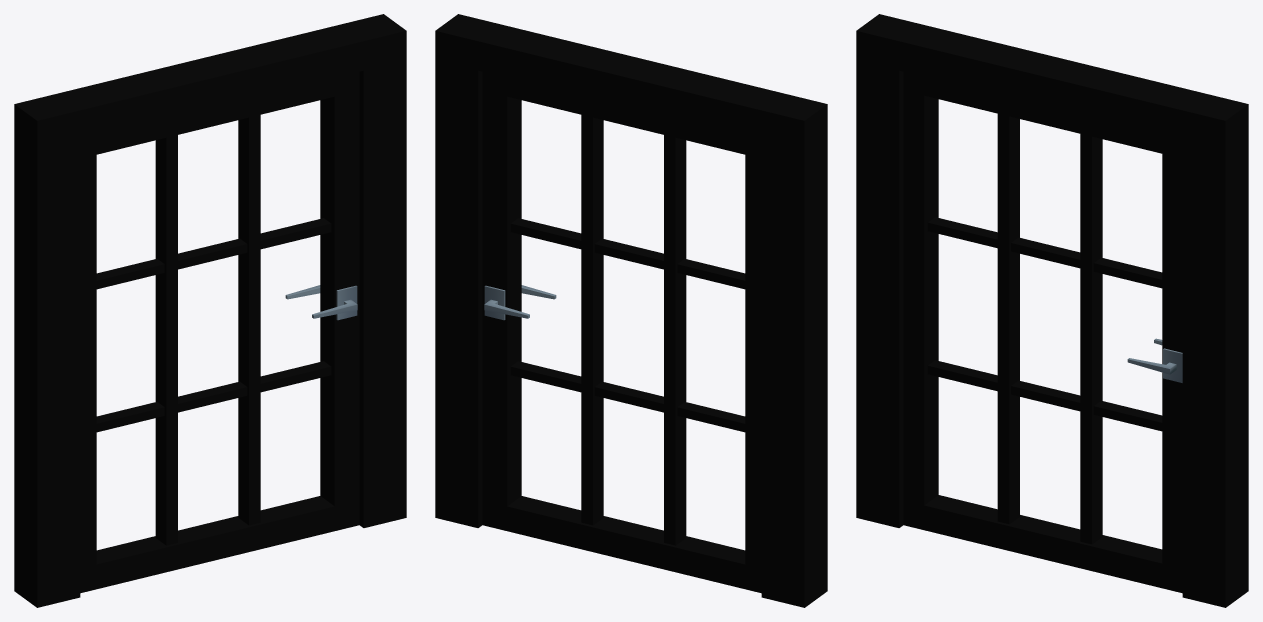
File: door_001_(2).glb
The picture shows the model from 3 angles, left to right: view 1: azimuth 30°, elevation 25°; view 2: azimuth 150°, elevation 25°; view 3: azimuth 330°, elevation 25°; orthographic projection.
Parts seen in each view (by area): view 1: door_frame_001, door_001; view 2: door_frame_001, door_001; view 3: door_frame_001, door_001.
Boxes of the visible parts, <box> form: door_frame_001: <box>14,14,406,607</box>; door_001: <box>80,71,359,593</box>; door_frame_001: <box>435,14,827,607</box>; door_001: <box>482,71,761,593</box>; door_frame_001: <box>856,14,1248,607</box>; door_001: <box>903,71,1182,593</box>.
Size of the model in its own units: 2.05 by 2.58 by 0.2859.
1 material, 1 textured.
